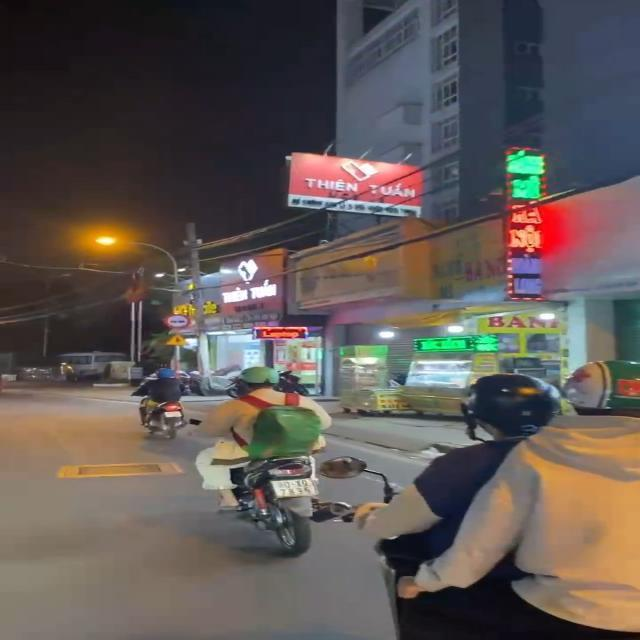125-cam-vuot: (163, 314, 190, 330)
207-giao-nhau-voi-duong-khong-uu-tien: (164, 334, 190, 346)
